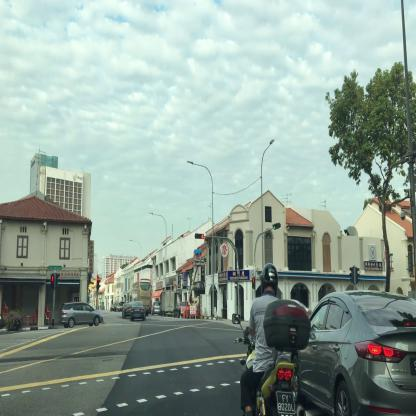red_traffic_light: (196, 234, 204, 238), (96, 277, 98, 289)
